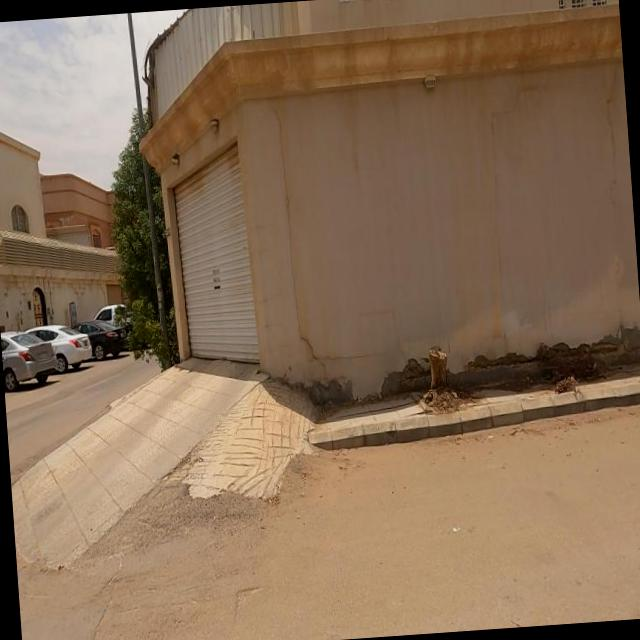debris: (429, 280, 640, 421), (310, 318, 540, 438), (274, 348, 386, 434)
